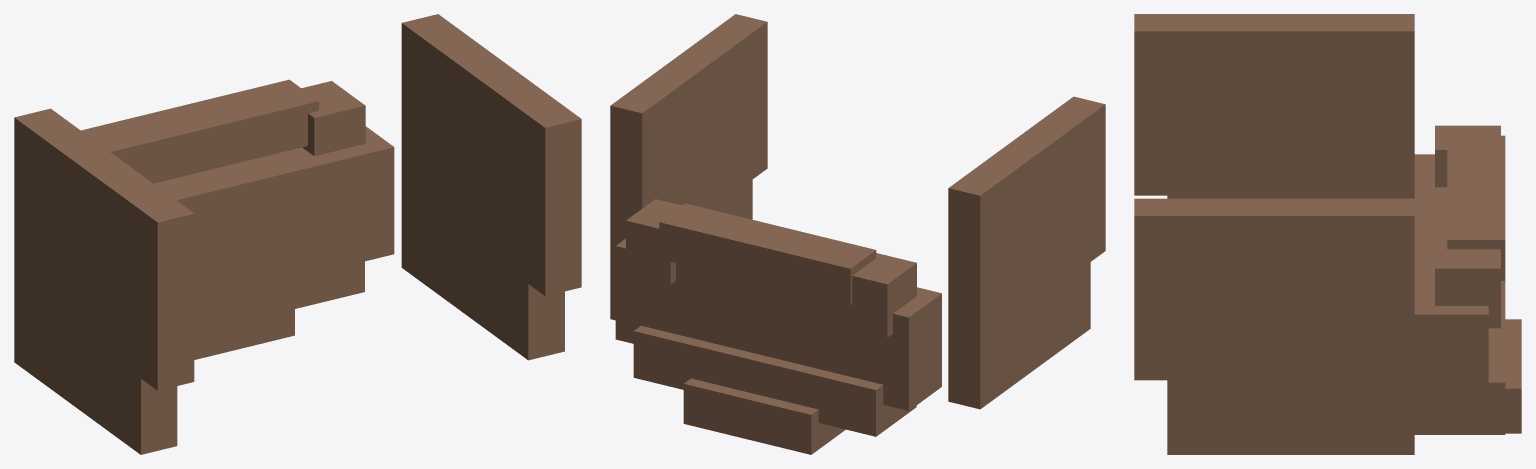
Rendered from barba_cheia_bigode.glb.
3 views of the same model, side by side, from view 1: azimuth 30°, elevation 25°; view 2: azimuth 150°, elevation 25°; view 3: azimuth 270°, elevation 25° (orthographic). The views are drawn at different scales.
Visible parts, largest first — view 1: barba_cheia_bigode; view 2: barba_cheia_bigode; view 3: barba_cheia_bigode.
Part boxes in pixels (x1,y1,x2,y2): barba_cheia_bigode: (14,14,581,454); barba_cheia_bigode: (610,14,1105,454); barba_cheia_bigode: (1134,14,1521,454).
Bounding box in the file's own units: 0.58 × 0.38 × 0.47.
